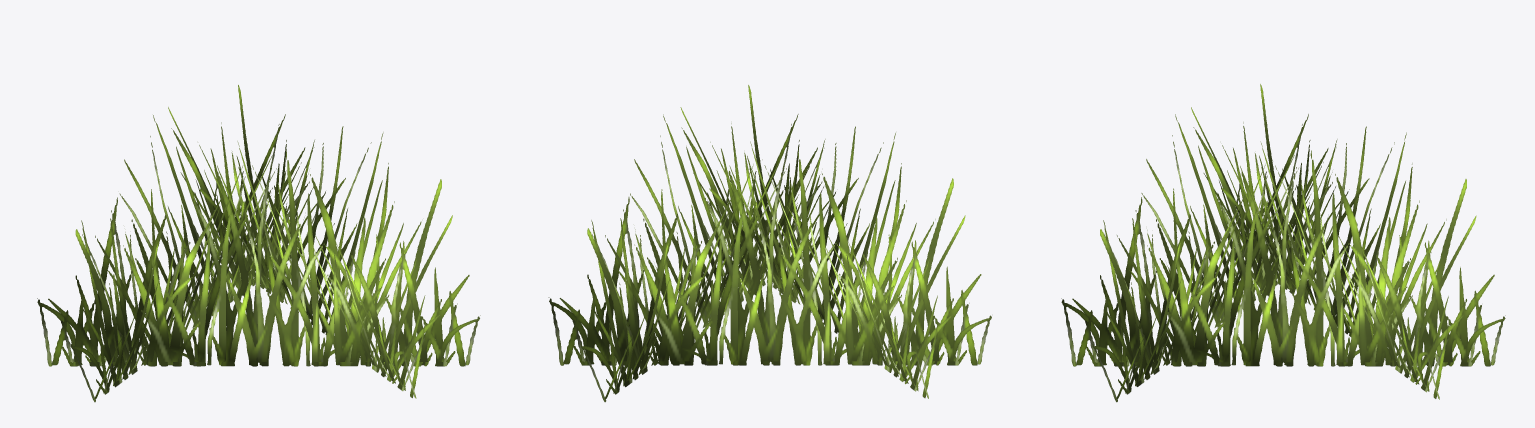
The model's file is grass_tropical.glb.
3 views of the same model, side by side, from view 1: azimuth 30°, elevation 25°; view 2: azimuth 150°, elevation 25°; view 3: azimuth 270°, elevation 25° (orthographic).
Visible parts, largest first — view 1: grass_tropical; view 2: grass_tropical; view 3: grass_tropical.
Part boxes in pixels (box(x1,y1,x2,y2)): grass_tropical: box(37, 85, 480, 402); grass_tropical: box(548, 85, 991, 402); grass_tropical: box(1061, 84, 1505, 402).
Bounding box in the file's own units: 3.46 × 1.61 × 3.41.
1 material, 1 textured.
